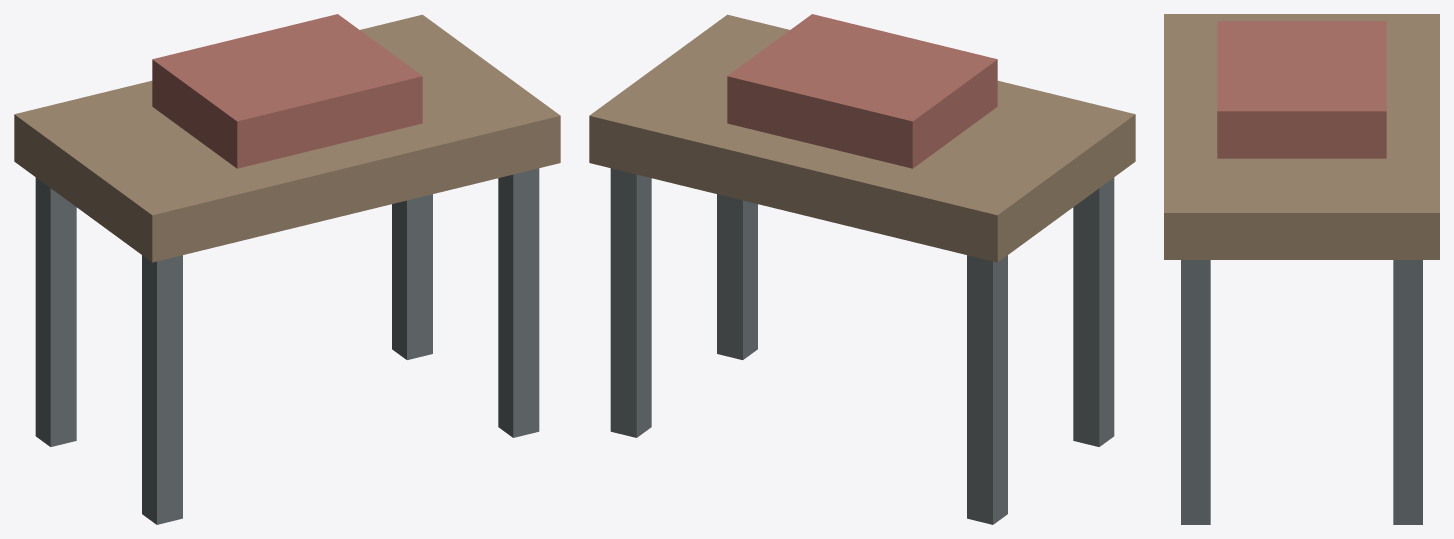
File: iz2_food_cold_room_door.glb
The picture shows the model from 3 angles, left to right: view 1: azimuth 30°, elevation 25°; view 2: azimuth 150°, elevation 25°; view 3: azimuth 270°, elevation 25°; orthographic projection.
Parts seen in each view (by area): view 1: body; view 2: body; view 3: body.
Boxes of the visible parts, x1,y1,x2,y2 form: body: (14, 14, 560, 524); body: (589, 14, 1135, 524); body: (1164, 14, 1439, 524).
Size of the model in its own units: 1.1 by 0.9439 by 0.6451.
